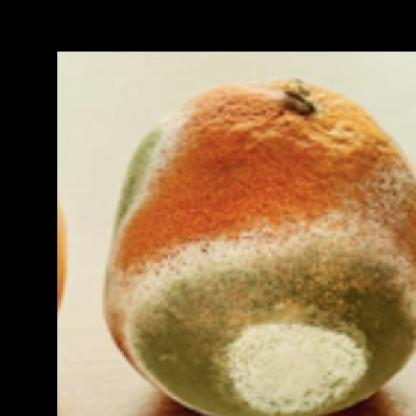rotten: (103, 78, 416, 416)
